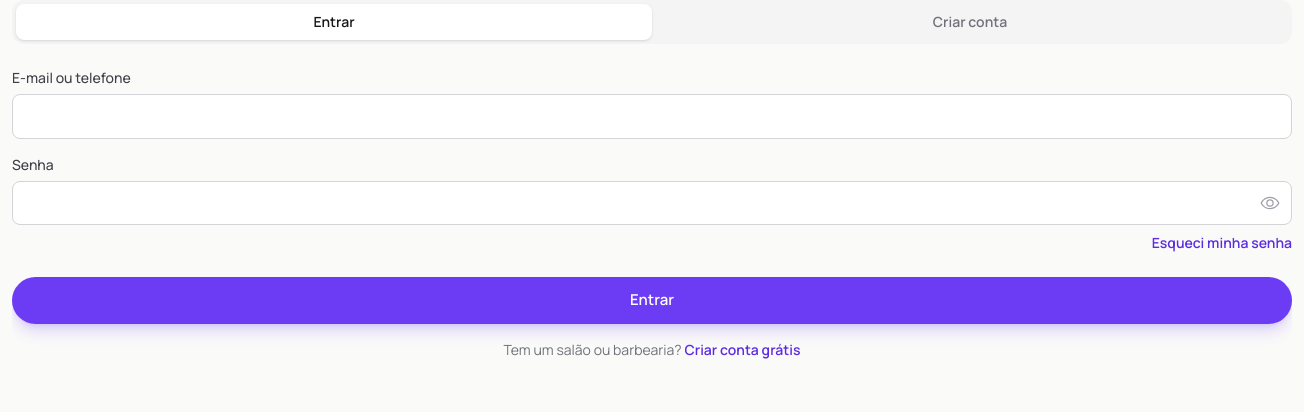
Test case: LoginForm: e-mail não confirmado › senha errada (erro genérico, sem código): NÃO oferece o botão de reenviar
This screenshot has width=1304, height=412.
Type "dono@salao.com" into the field labelled "E-mail ou telefone". click: x=652, y=116
box: [12,94,1292,138]
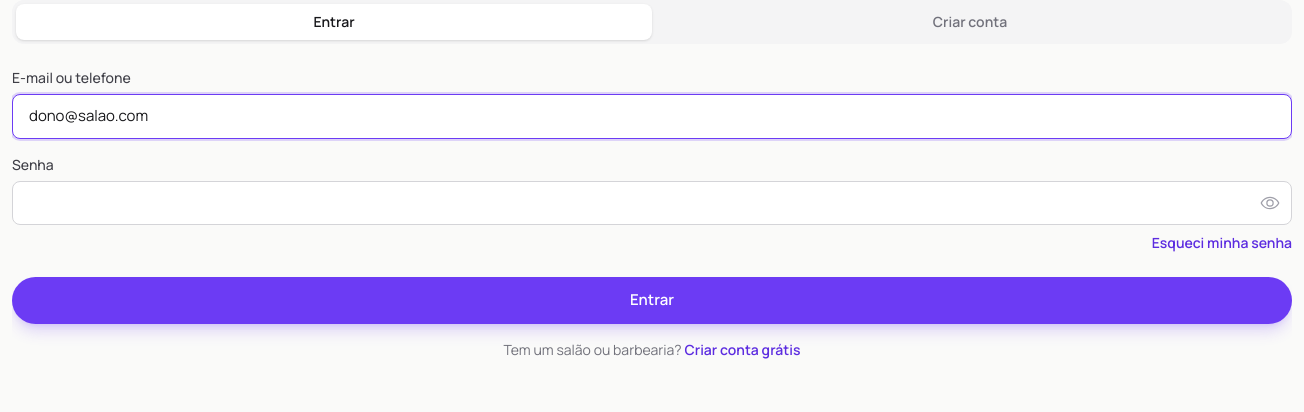
Type "senha-correta-123" into the password field labelled "Senha". click: x=652, y=203
box: [12,180,1292,225]
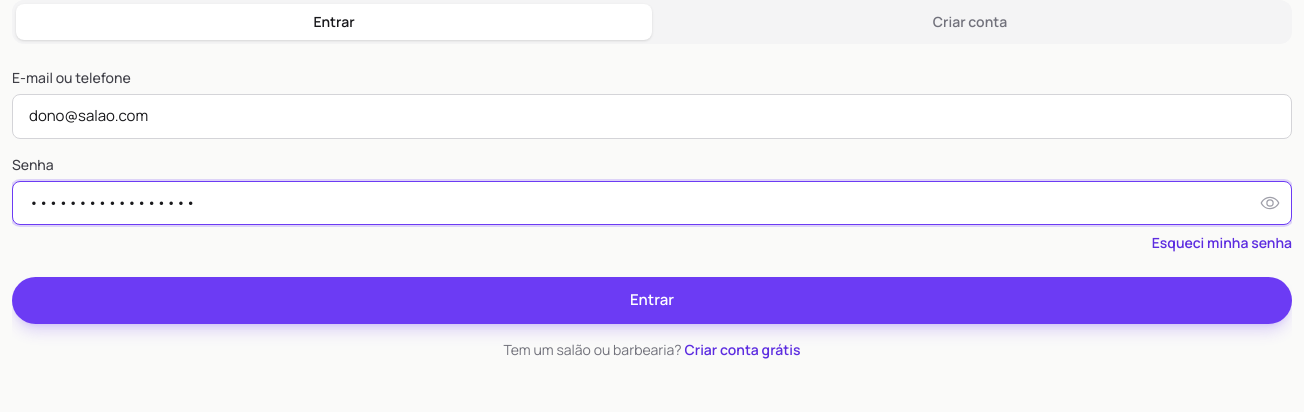
Click the button "Entrar" below "Esqueci minha senha". click: x=652, y=300
box: [12,277,1292,324]
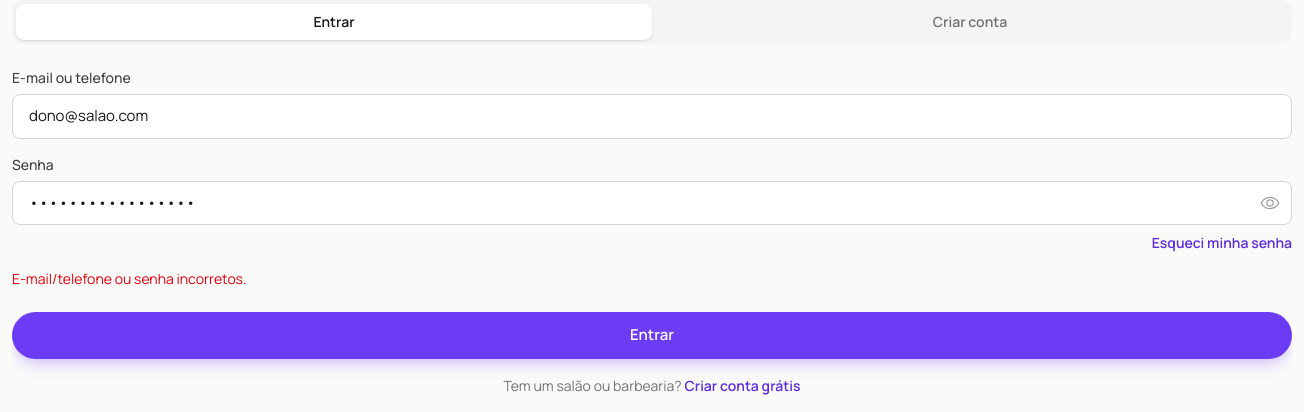
Check: the message shows "incorretos", box [12,269,246,288]
